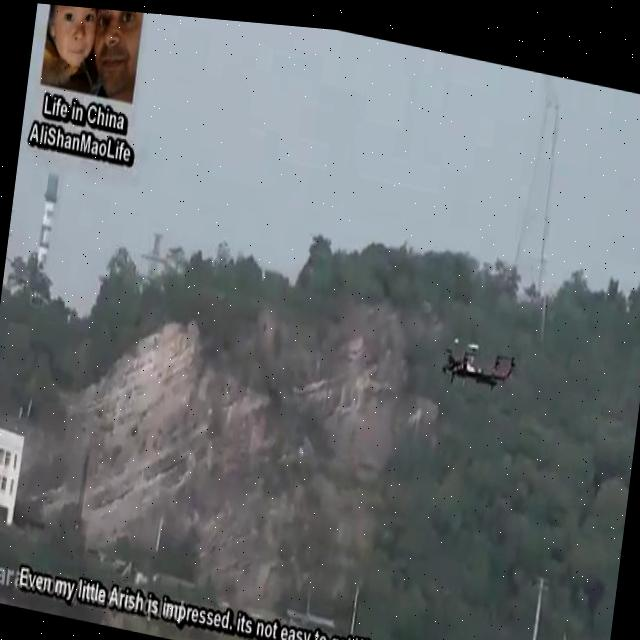drone: (436, 321, 521, 388)
